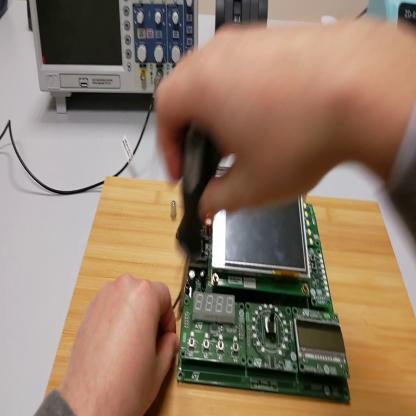hand: (156, 26, 338, 221), (66, 273, 178, 413)
low voltage board: (179, 196, 351, 405)
oscilloscope: (31, 2, 198, 117)
screwdriver-: (176, 131, 218, 319)
socket: (28, 1, 33, 33), (2, 3, 10, 21)
welder station: (367, 2, 416, 38)
working area: (44, 175, 416, 416)
